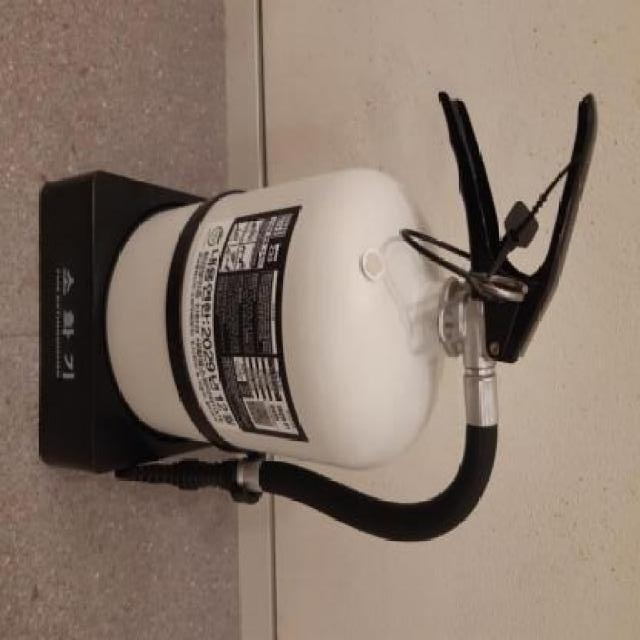fire extinguisher: (105, 92, 600, 543)
